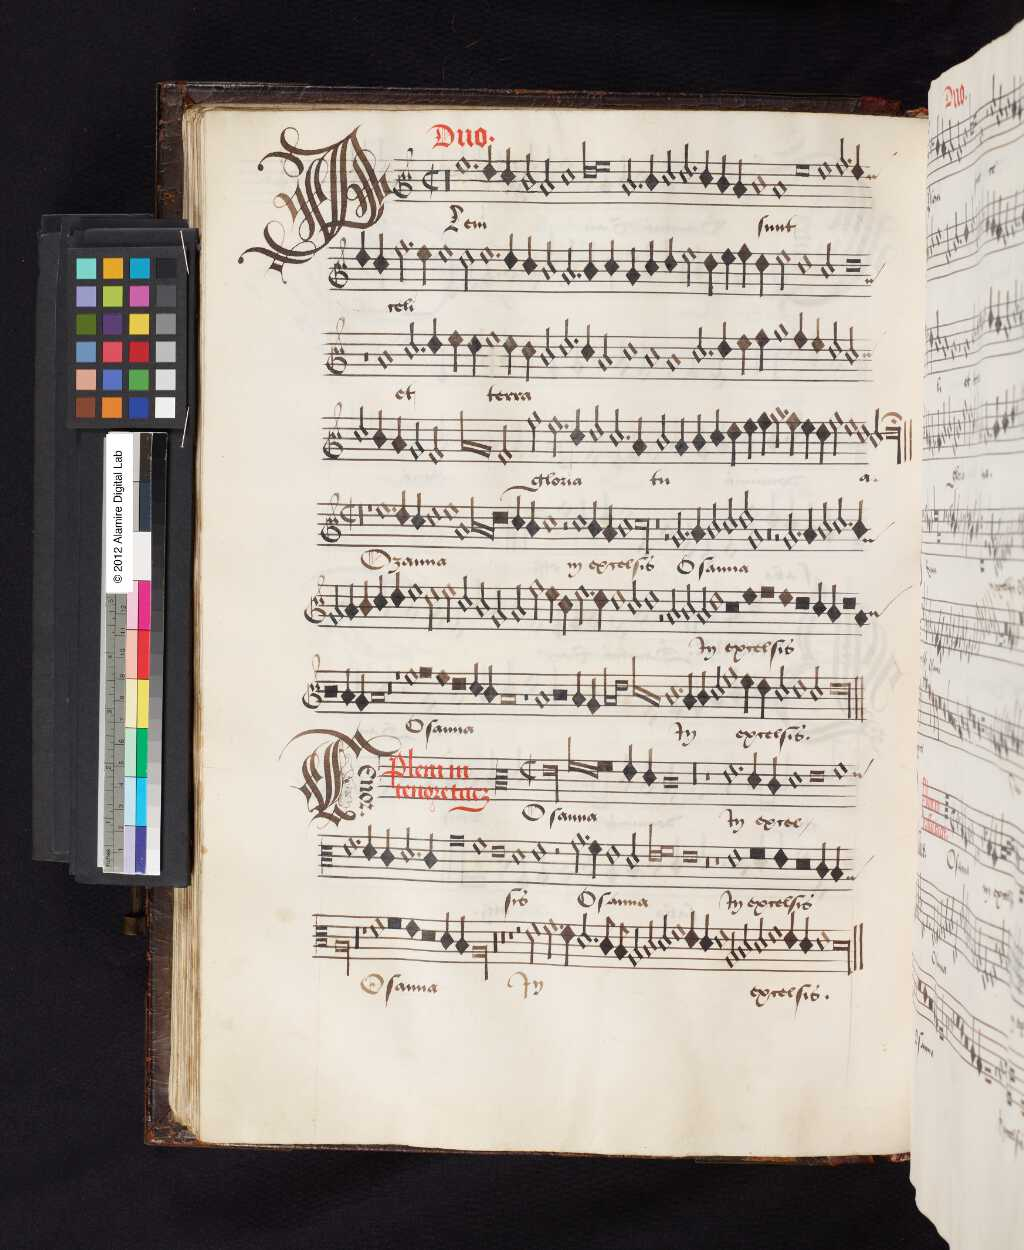colored breve_3: (758, 576, 778, 606)
colored breve_5: (791, 587, 811, 617), (840, 587, 859, 616)
colored breve_6: (723, 593, 743, 621)
colored semibreve_4: (740, 576, 760, 610), (776, 578, 794, 612)
colored semibreve_8: (852, 599, 872, 636)
custos_7: (862, 595, 889, 630)
g clef_9: (303, 572, 329, 633)
minim rest: (655, 579, 666, 641)
minim_3: (527, 568, 544, 625)
minim_4: (440, 576, 457, 628), (573, 575, 589, 629)
minim_5: (422, 577, 439, 636)
minim_6: (457, 567, 474, 616), (626, 569, 642, 620)
minim_7: (474, 571, 491, 622), (680, 574, 697, 627)
minim_8: (665, 577, 682, 632), (696, 576, 712, 630), (512, 572, 528, 627)
minim_9: (489, 578, 507, 633), (328, 576, 345, 632)
point: (583, 583, 596, 600)
semibreve_4: (405, 574, 424, 610)
semibreve_5: (609, 580, 628, 617), (643, 582, 661, 614), (709, 585, 725, 614)
semiminim_4: (545, 576, 560, 630)
semiminim_5: (592, 580, 610, 638), (390, 566, 408, 616)
semiminim_6: (372, 568, 389, 619), (557, 588, 573, 642), (811, 575, 827, 623)
semiminim_7: (826, 577, 842, 631), (358, 573, 373, 623)
semiminim_8: (345, 576, 360, 627)
